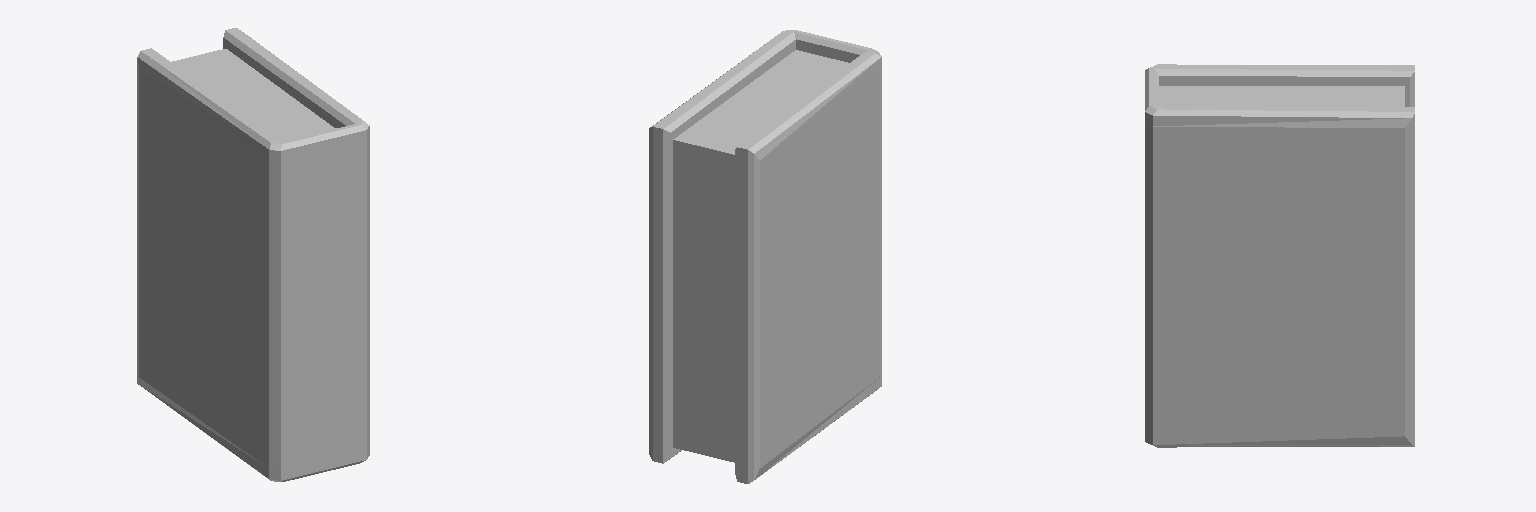
Rendered from book.obj.
3 renders of one model, left to right at view 1: azimuth 30°, elevation 25°; view 2: azimuth 150°, elevation 25°; view 3: azimuth 270°, elevation 25°, orthographic.
Parts seen in each view (by area): view 1: Book; view 2: Book; view 3: Book.
Boxes of the visible parts, <box> form: Book: <box>137,28,369,481</box>; Book: <box>649,30,881,483</box>; Book: <box>1145,64,1414,447</box>.
Size of the model in its own units: 11.49 by 34.3 by 24.88.